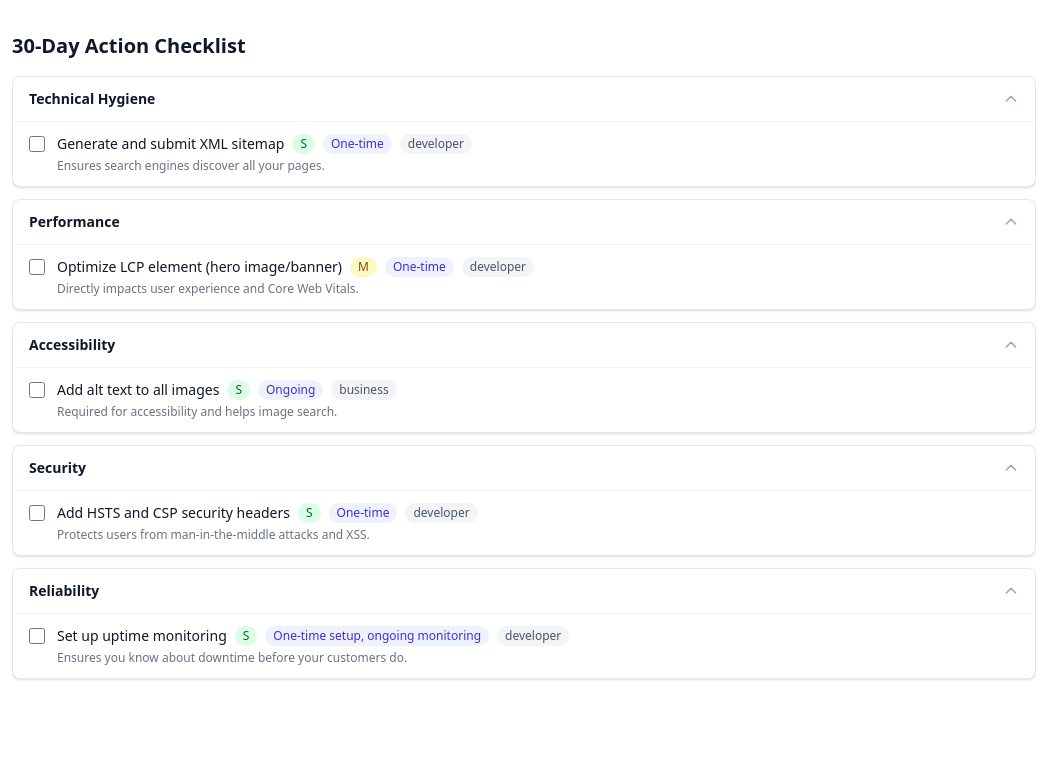
it: ChecklistSection (US-5.5) › category sections are collapsible
This screenshot has width=1048, height=768.
Expected: the text "Generate and submit XML sitemap" is shown, [57, 134, 284, 154]
Note: Collapse the category — item removed from DOM
Click the button "Technical Hygiene" at point(92, 98), box [13, 77, 1035, 121]
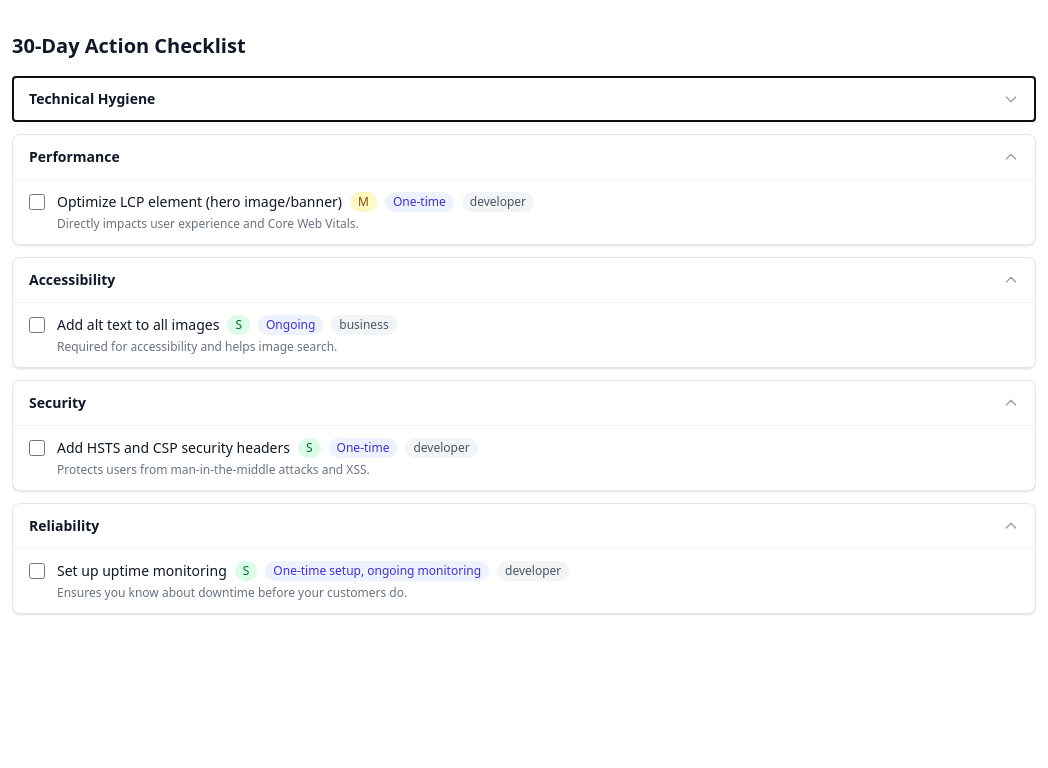
Expected: the text "Generate and submit XML sitemap" is gone
Note: Expand it again — item reappears
Click the button "Technical Hygiene" at point(92, 98), box [13, 77, 1035, 121]
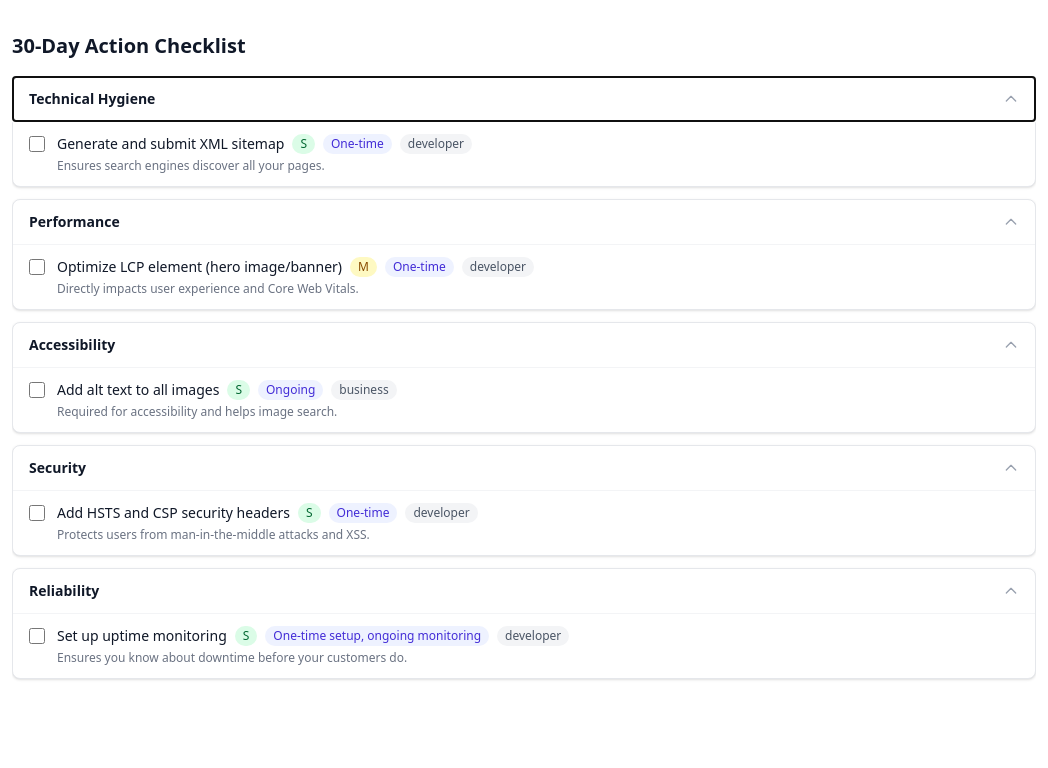
Expected: the text "Generate and submit XML sitemap" is shown, [57, 134, 284, 154]
